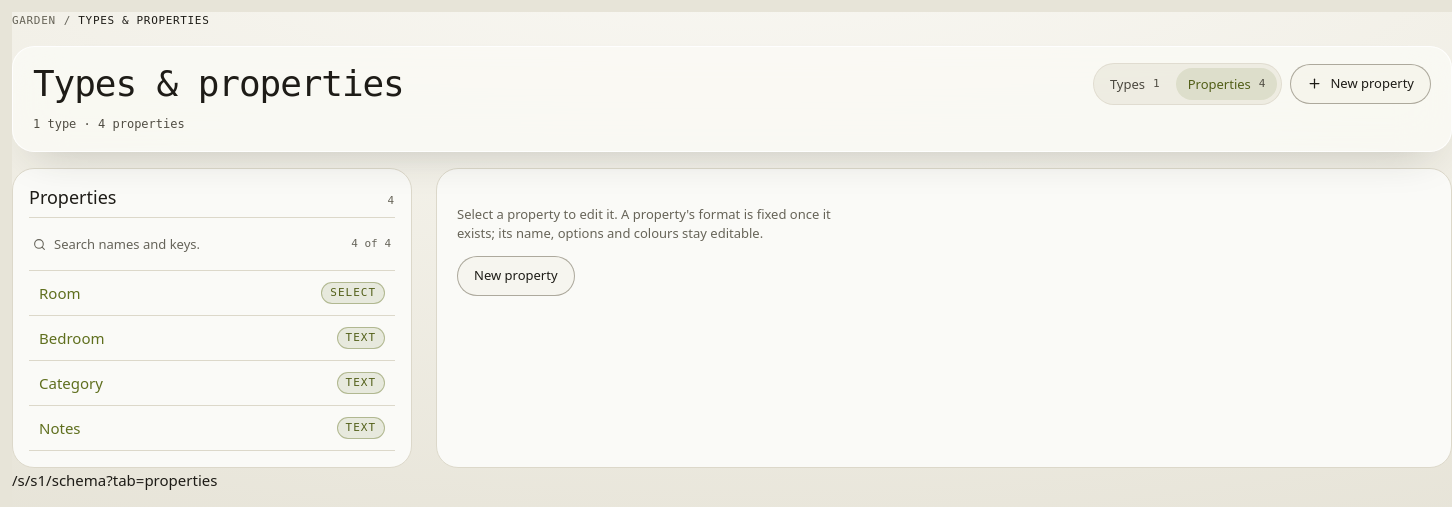
SchemaPage › searches the property list by name and key and counts the matches
The width and height of the screenshot is (1452, 507).
Type "ro" into the search field named "Search properties".
click(199, 244); type("ro")  # box [54,226,343,262]
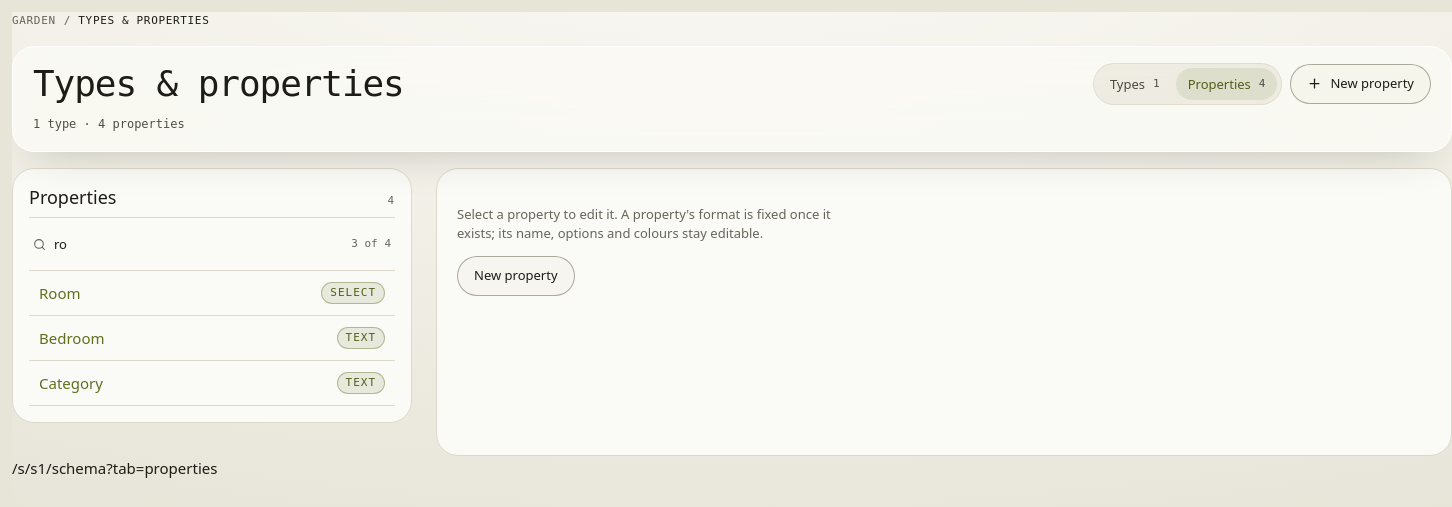
Check: the text "3 of 4" is shown, box [351,235,391,253]
Replace the text in the search field named "Search properties" with "zzz" at (199, 244), box [54,226,343,262]
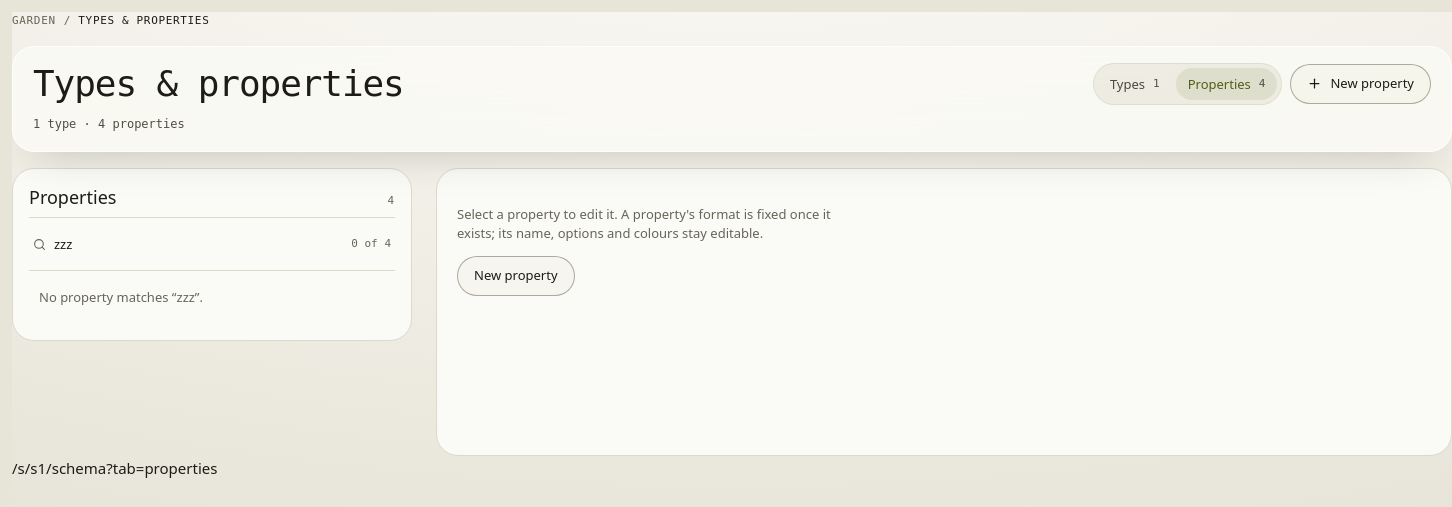
Check: the text "No property matches “zzz”." is shown, box [39,288,203,306]
